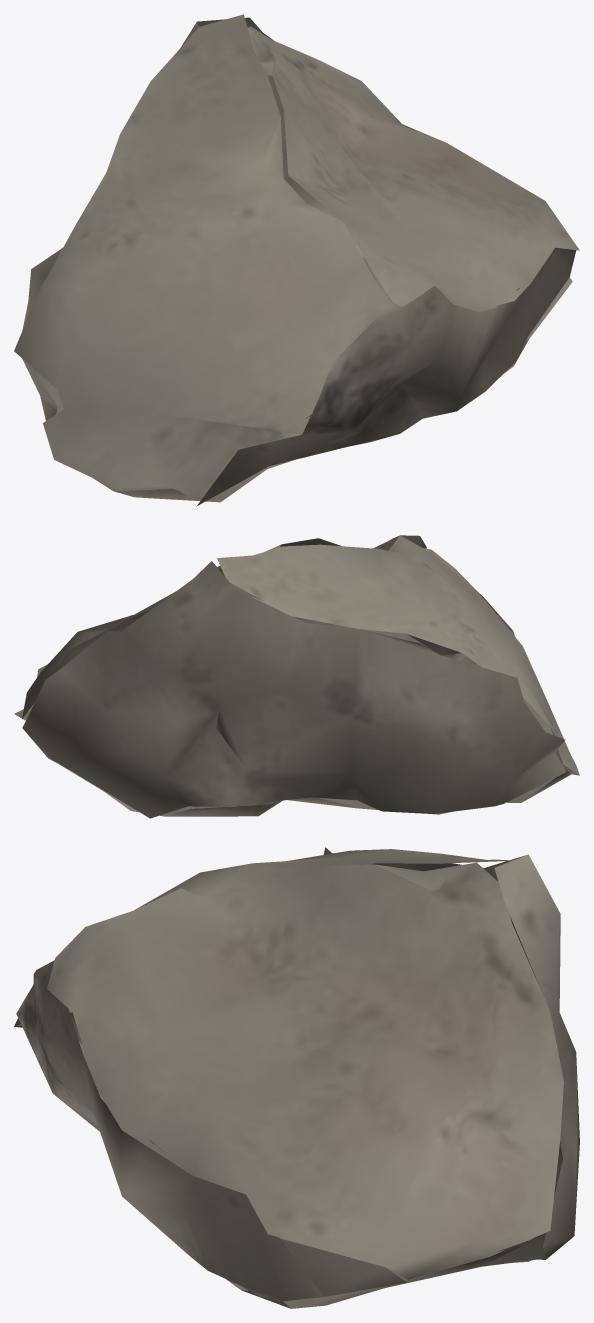
Rendered from rock_b_lo.glb.
3 renders of one model, top to bottom at view 1: azimuth 30°, elevation 25°; view 2: azimuth 150°, elevation 25°; view 3: azimuth 270°, elevation 25°, orthographic. The views are drawn at different scales.
Visible parts, largest first — view 1: rock_b_lo; view 2: rock_b_lo; view 3: rock_b_lo.
Part boxes in pixels (x1,y1,x2,y2): rock_b_lo: (14, 14, 579, 506); rock_b_lo: (14, 535, 579, 818); rock_b_lo: (14, 847, 579, 1308).
Size of the model in its own units: 1.82 by 0.9455 by 1.36.
Materials: 1 (1 with a texture image).
